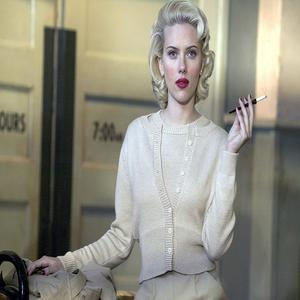cigarette: (253, 94, 268, 106)
